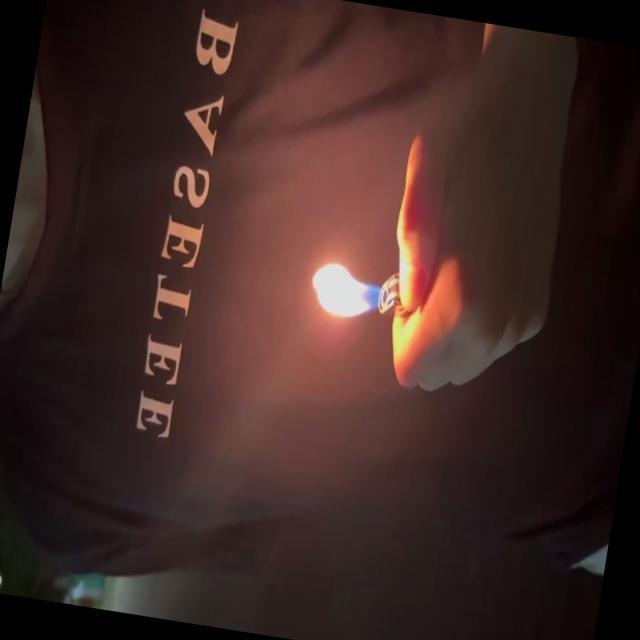Fire: (305, 258, 389, 325)
